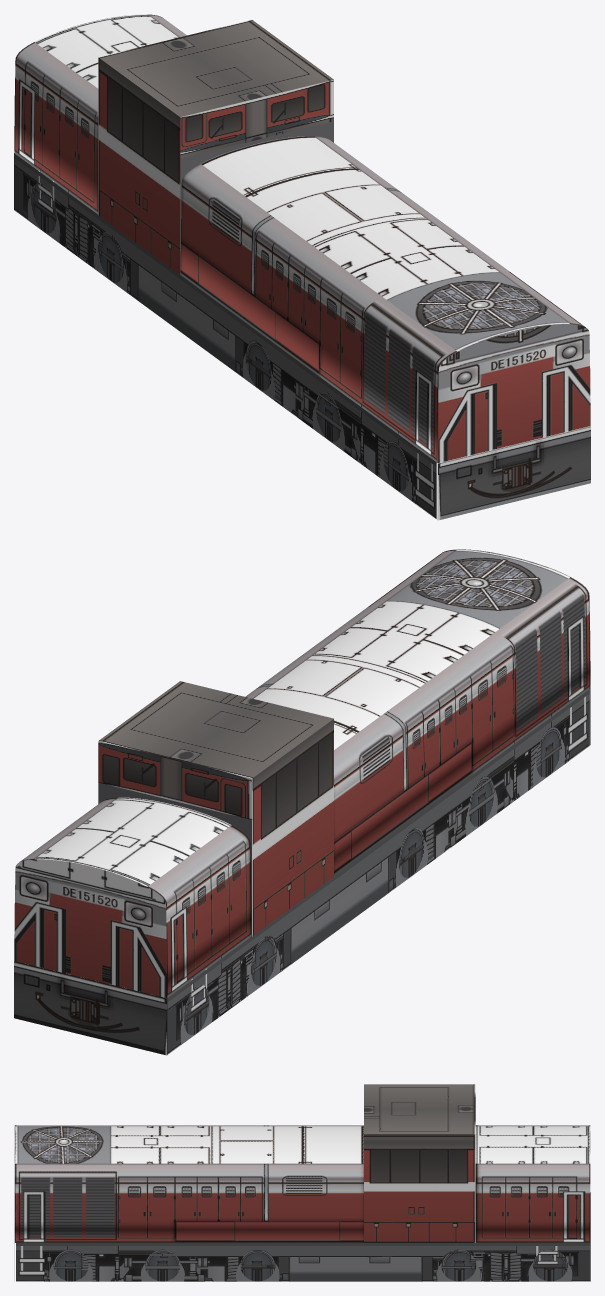
Rendered from car1.glb.
The picture shows the model from 3 angles, top to bottom: view 1: azimuth 30°, elevation 25°; view 2: azimuth 150°, elevation 25°; view 3: azimuth 270°, elevation 25°; orthographic projection. The views are drawn at different scales.
Visible parts, largest first — view 1: jnr-de15-car1; view 2: jnr-de15-car1; view 3: jnr-de15-car1.
Part boxes in pixels (x1,y1,x2,y2): jnr-de15-car1: [14, 14, 590, 520]; jnr-de15-car1: [14, 549, 590, 1055]; jnr-de15-car1: [14, 1084, 590, 1281].
Bounding box in the file's own units: 2.97 × 3.96 × 14.18.
Materials: 14 (13 with a texture image).
